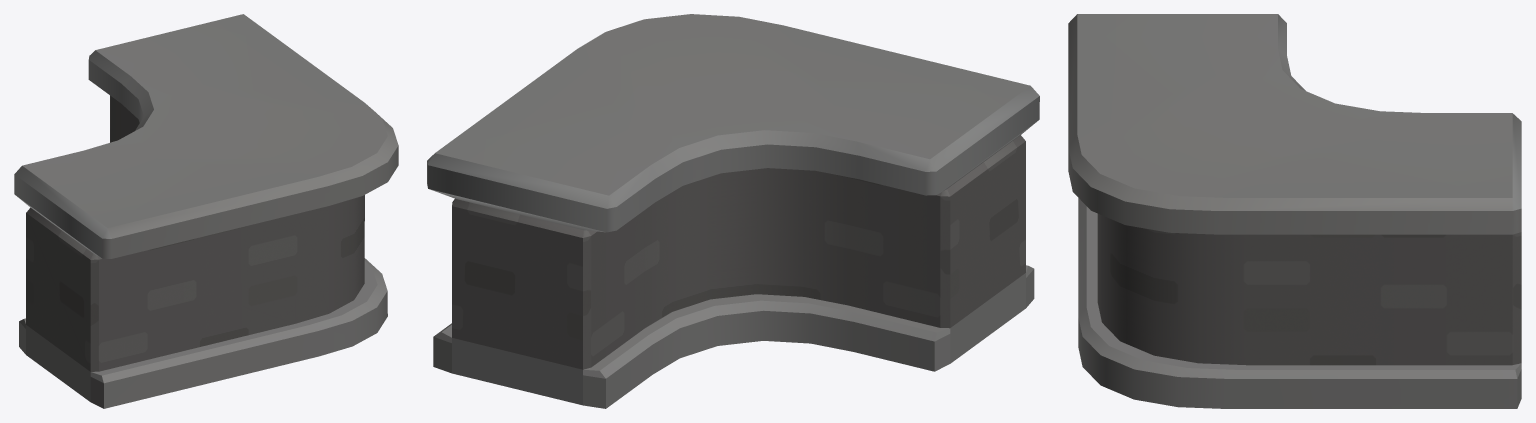
Rendered from BrickWall_2_2.glb.
The picture shows the model from 3 angles, left to right: view 1: azimuth 30°, elevation 25°; view 2: azimuth 150°, elevation 25°; view 3: azimuth 270°, elevation 25°; orthographic projection. The views are drawn at different scales.
Parts seen in each view (by area): view 1: BrickWall_2_2; view 2: BrickWall_2_2; view 3: BrickWall_2_2.
Part boxes in pixels (<box>): BrickWall_2_2: <box>14,14,398,408</box>; BrickWall_2_2: <box>427,14,1039,408</box>; BrickWall_2_2: <box>1068,14,1521,408</box>.
Bounding box in the file's own units: 1.32 × 0.6783 × 1.32.
2 materials, 2 textured.
